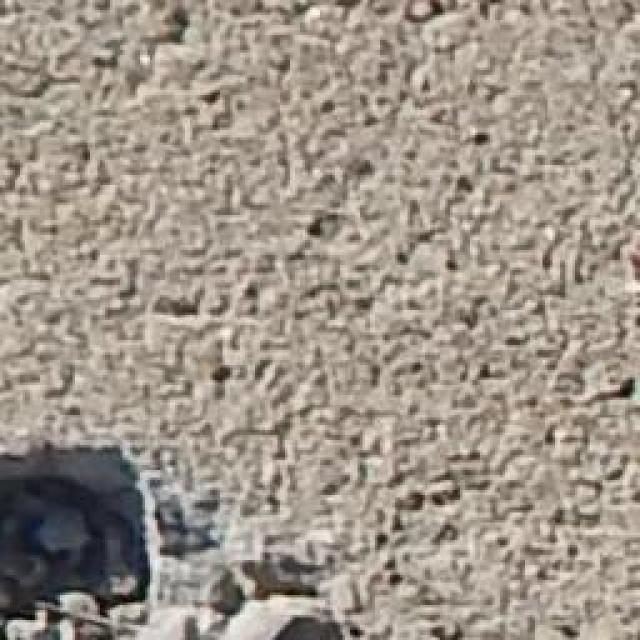concrete-crack: (0, 434, 174, 640), (176, 550, 377, 636)
